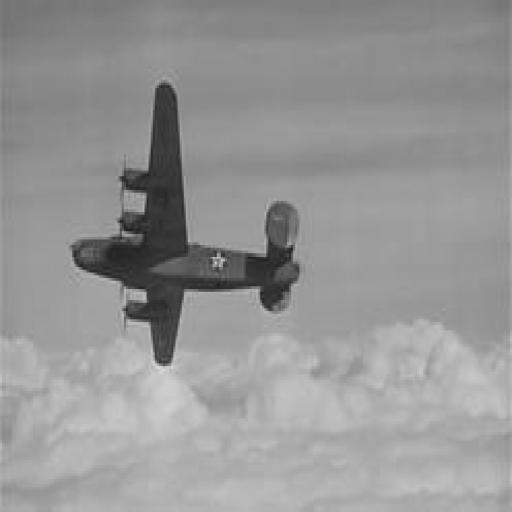aircraft: (70, 82, 302, 369)
